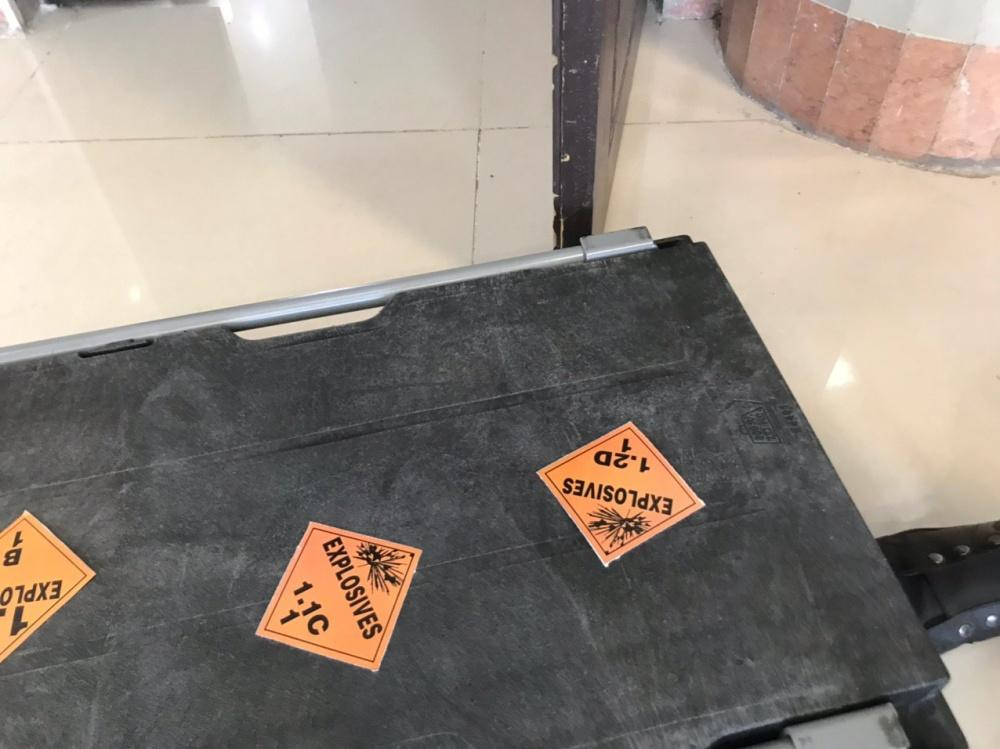explosive: (251, 521, 421, 673), (540, 424, 705, 566), (4, 501, 95, 675)
